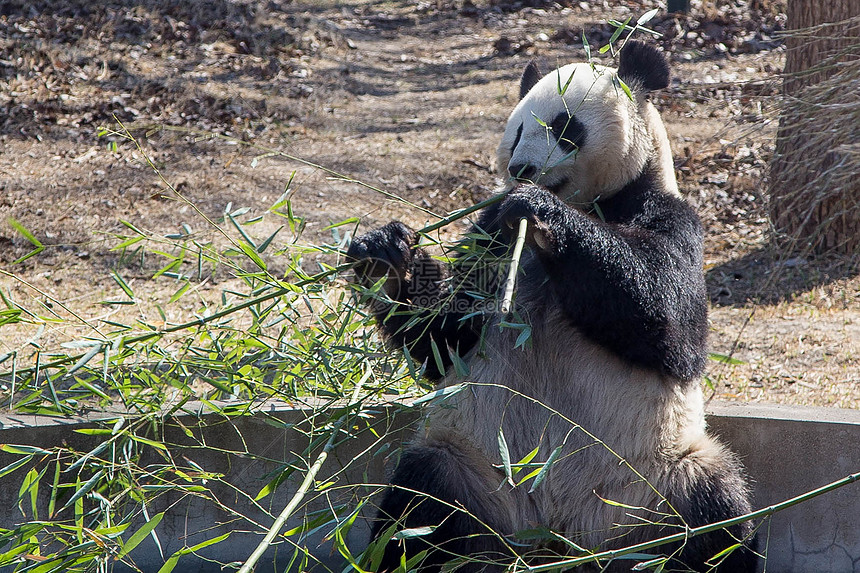panda: (331, 38, 791, 562)
